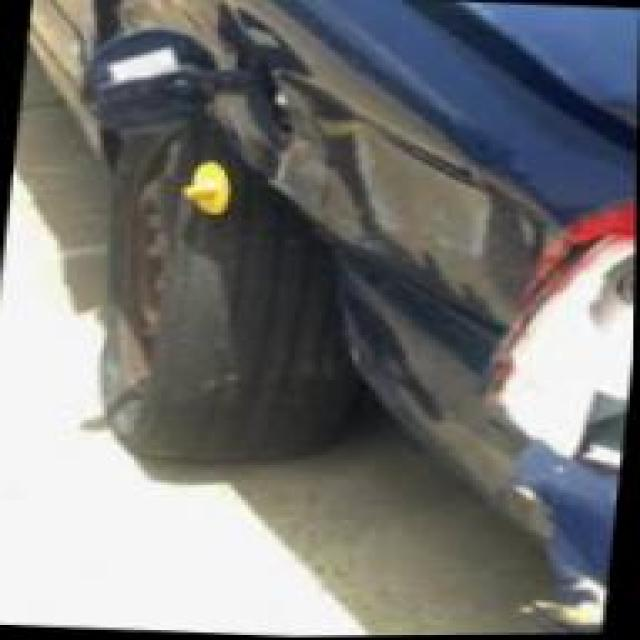Light: (523, 200, 638, 473)
